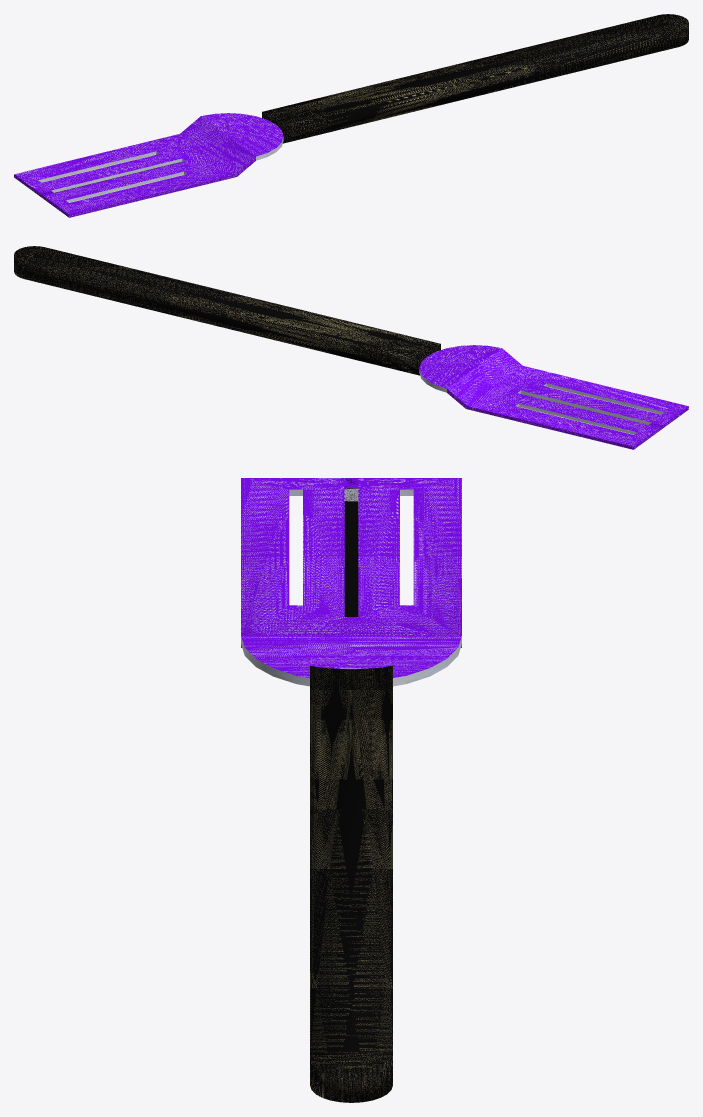
The model's file is turner_02_origin_gt_6.dae.
3 renders of one model, top to bottom at view 1: azimuth 30°, elevation 25°; view 2: azimuth 150°, elevation 25°; view 3: azimuth 270°, elevation 25°, orthographic. The views are drawn at different scales.
Visible parts, largest first — view 1: Untitled (×5); view 2: Untitled (×5); view 3: Untitled (×4).
Boxes of the visible parts, bbox=[...] form: Untitled (×5): bbox=[14, 14, 688, 217]; Untitled (×5): bbox=[14, 246, 688, 449]; Untitled (×4): bbox=[241, 478, 461, 1102].
Size of the model in its own units: 13.46 by 2 by 0.5.
Materials: 4 (2 with a texture image).
